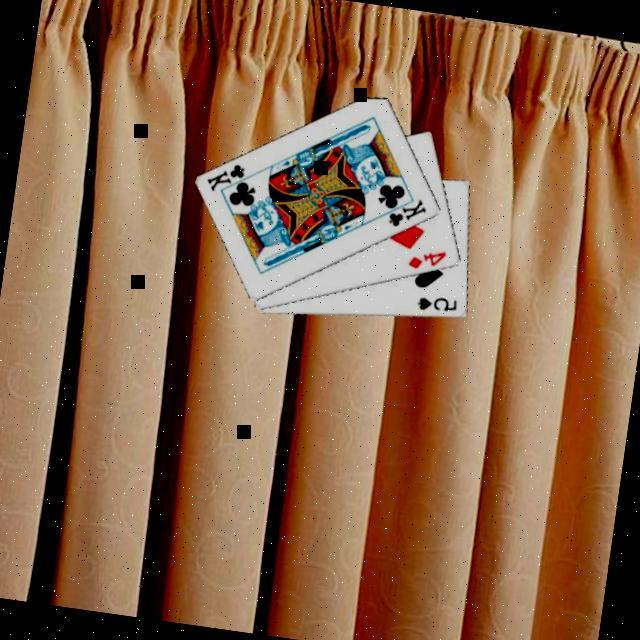4D: (407, 243, 452, 276)
5S: (416, 290, 463, 318)
KC: (204, 157, 260, 200), (378, 191, 433, 234)
